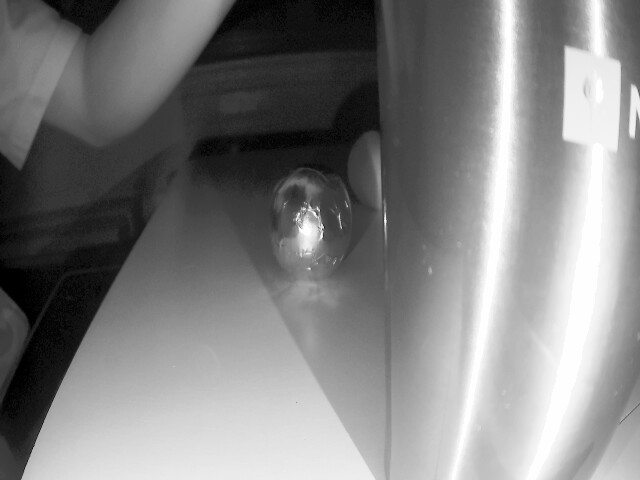silver: (268, 162, 348, 282)
